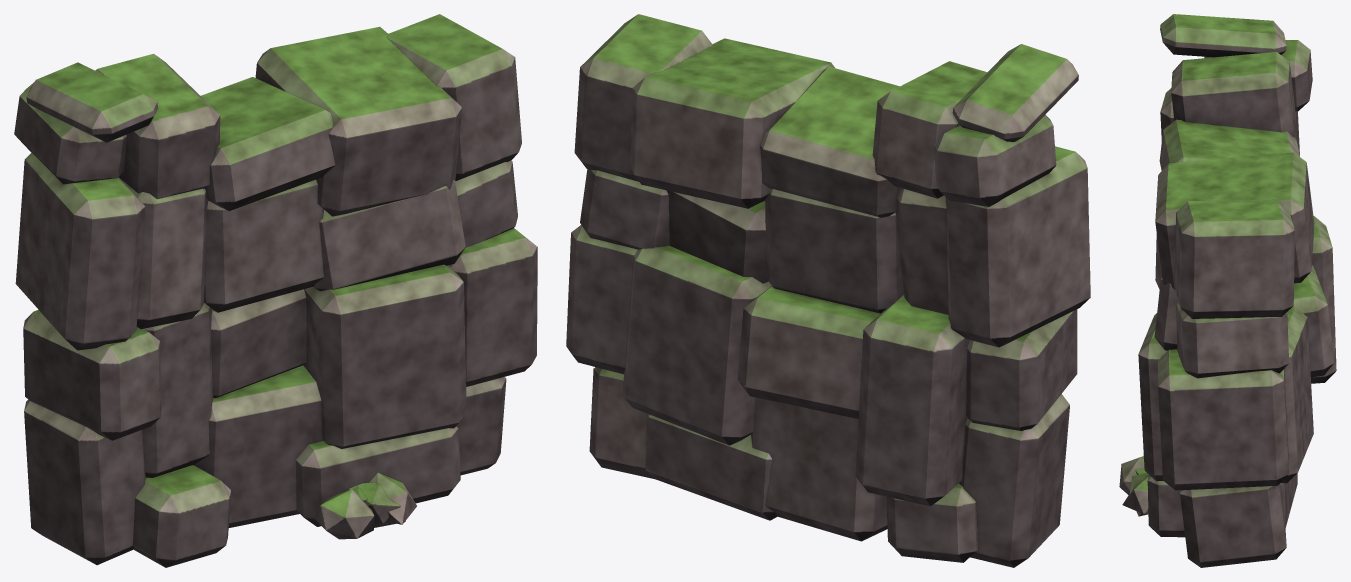
File: Env_Cliff_3.glb
The picture shows the model from 3 angles, left to right: view 1: azimuth 30°, elevation 25°; view 2: azimuth 150°, elevation 25°; view 3: azimuth 270°, elevation 25°; orthographic projection. The views are drawn at different scales.
Visible parts, largest first — view 1: Env_Cliff_3.001; view 2: Env_Cliff_3.001; view 3: Env_Cliff_3.001.
Boxes of the visible parts, bbox=[...] form: Env_Cliff_3.001: bbox=[14, 14, 537, 567]; Env_Cliff_3.001: bbox=[566, 14, 1090, 567]; Env_Cliff_3.001: bbox=[1119, 14, 1336, 567].
Size of the model in its own units: 12 by 11.73 by 5.8.
1 material, 1 textured.
